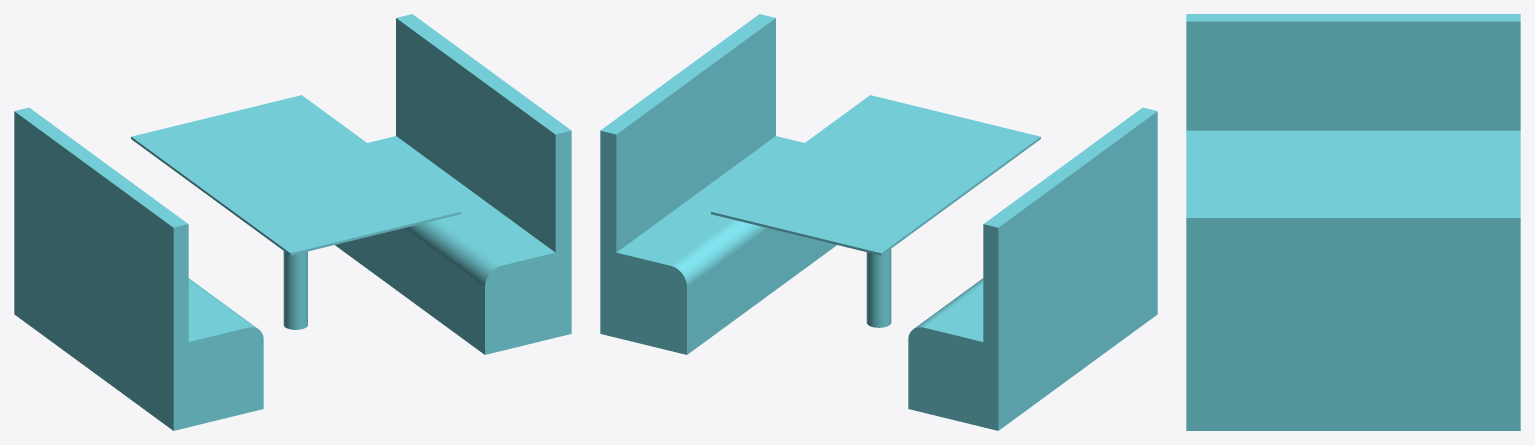
Rendered from table1.dae.
3 views of the same model, side by side, from view 1: azimuth 30°, elevation 25°; view 2: azimuth 150°, elevation 25°; view 3: azimuth 270°, elevation 25° (orthographic). The views are drawn at different scales.
Visible parts, largest first — view 1: SketchUp (×5); view 2: SketchUp (×5); view 3: SketchUp (×3).
Part boxes in pixels (x1=…): SketchUp (×5): x1=14, y1=14, x2=571, y2=430; SketchUp (×5): x1=600, y1=14, x2=1157, y2=430; SketchUp (×3): x1=1186, y1=14, x2=1520, y2=430.
Size of the model in its own units: 141 by 97.49 by 68.57.
